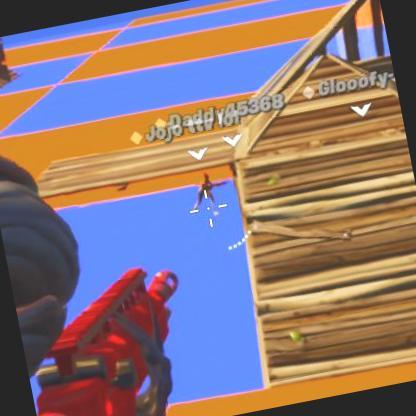person: (198, 174, 219, 212)
